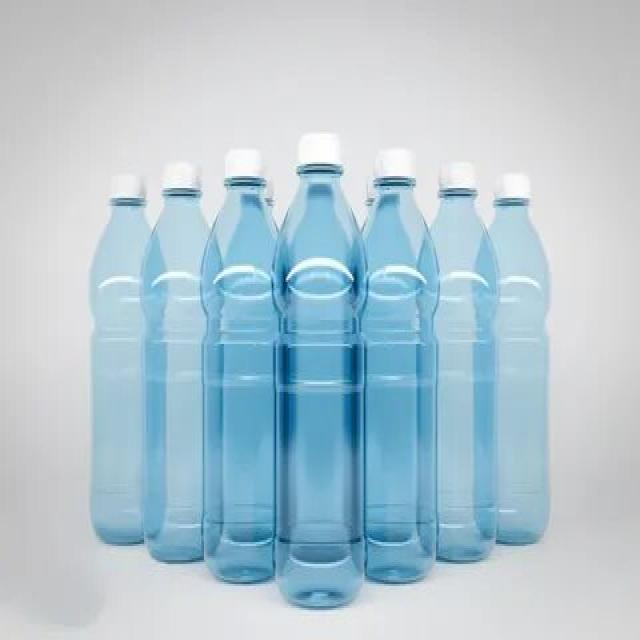blue: (275, 173, 369, 605), (142, 194, 204, 564), (500, 203, 549, 545)
